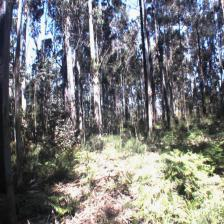trunktrack_idkeyframe: (15, 90, 24, 182)
